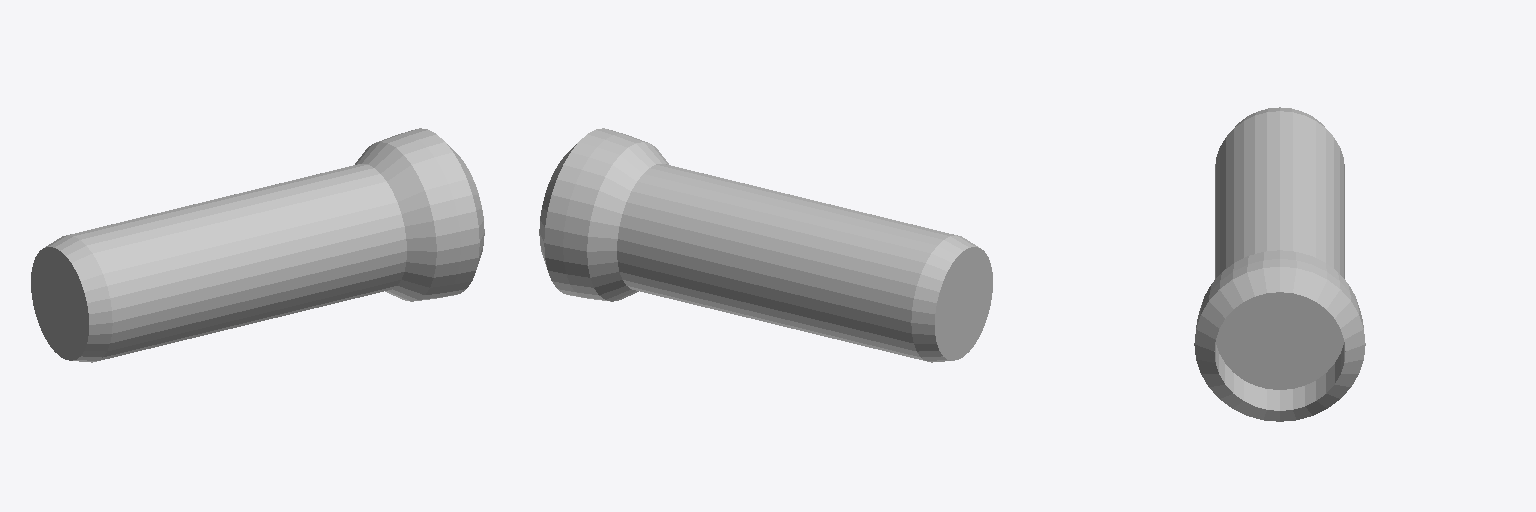
Rendered from lightOBJ.obj.
The picture shows the model from 3 angles: view 1: azimuth 30°, elevation 25°; view 2: azimuth 150°, elevation 25°; view 3: azimuth 270°, elevation 25°; orthographic projection.
Visible parts, largest first — view 1: Cylinder; view 2: Cylinder; view 3: Cylinder.
Part boxes in pixels (x1,y1,x2,y2): Cylinder: (31, 128, 484, 362); Cylinder: (539, 128, 992, 362); Cylinder: (1194, 107, 1365, 421).
Bounding box in the file's own units: 0.6943 × 0.2629 × 0.2629.